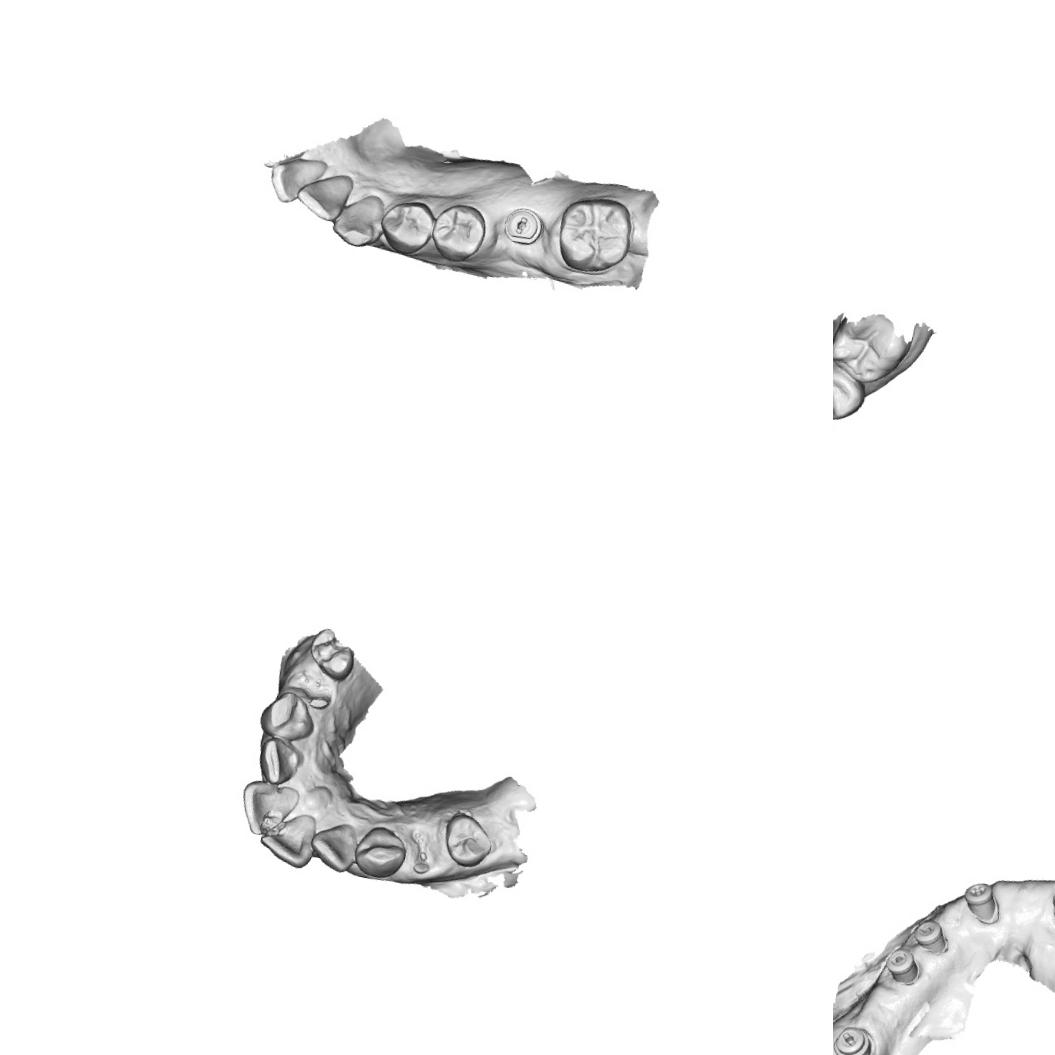canine: (328, 185, 394, 254), (350, 820, 412, 882), (256, 686, 320, 745)
implant_minus: (499, 202, 547, 250), (880, 944, 924, 987), (910, 915, 955, 957), (833, 1021, 877, 1055)
implant_plus: (958, 878, 1008, 928), (1045, 883, 1055, 931)
incisor: (232, 776, 302, 842), (254, 805, 321, 872), (263, 146, 331, 212), (288, 164, 358, 226), (305, 816, 362, 876), (253, 733, 308, 790)
molar: (550, 188, 641, 282), (833, 303, 914, 390)
premolar: (426, 197, 493, 268), (374, 193, 439, 263), (438, 808, 498, 872), (303, 624, 361, 684), (833, 361, 868, 424)
